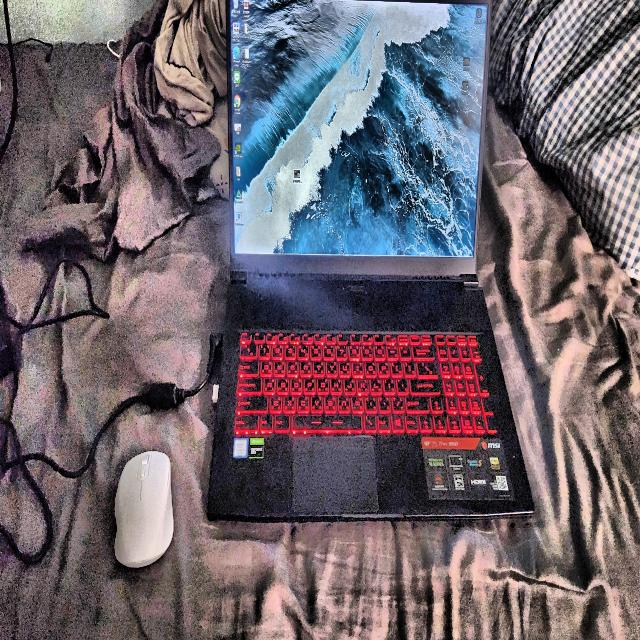Laptop: (207, 0, 534, 521)
MOUSE: (115, 451, 173, 567)
